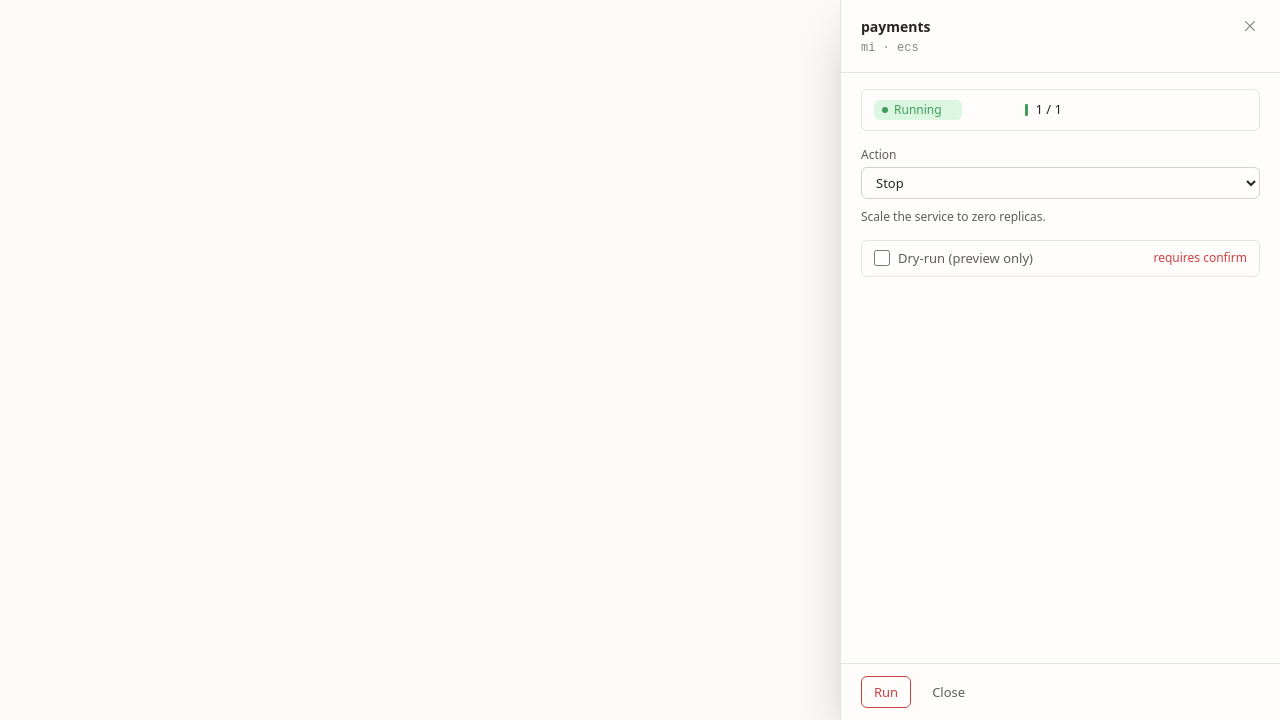
Test case: <ChaosDrawer mode=actions/> destructive flow › dry-run skips the confirm dialog and sends dryRun:true without confirm
The width and height of the screenshot is (1280, 720).
Step 1. Select "Stop" in the dropdown labelled "Action" → (1060, 183), box [861, 167, 1260, 199]
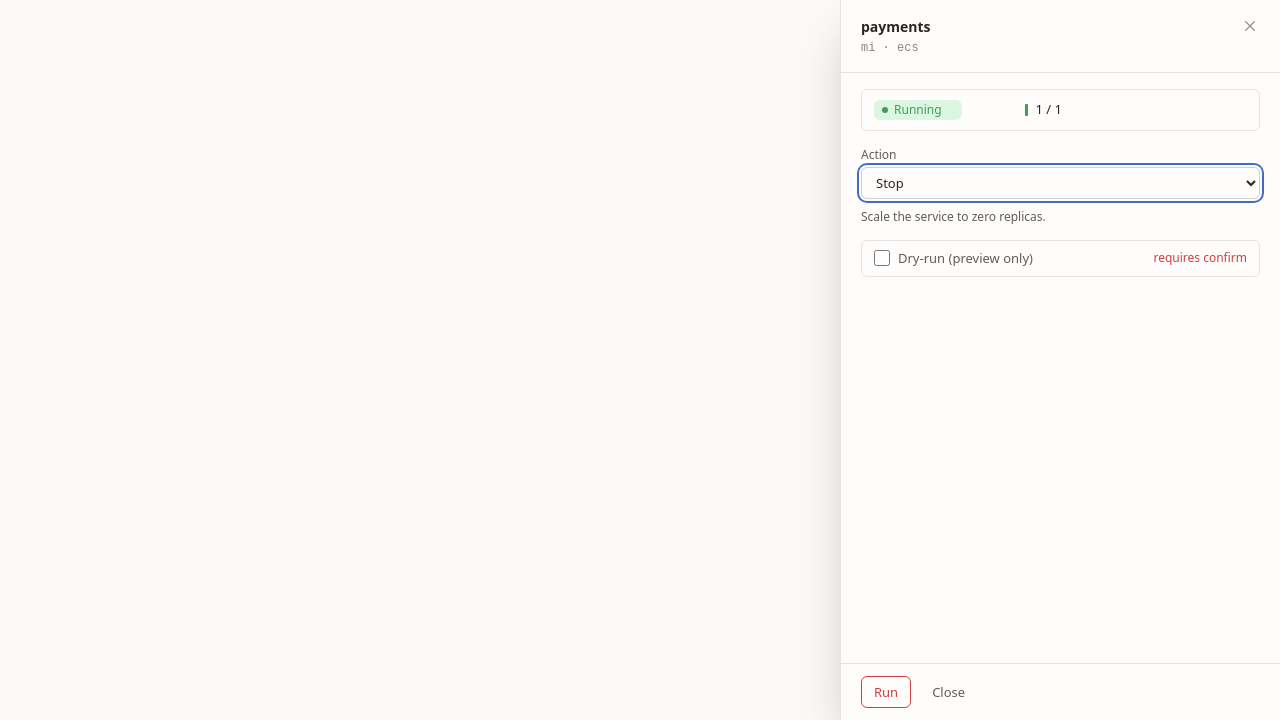
Step 2. Click the checkbox labelled "Dry-run (preview only)" → (882, 258), box [874, 250, 890, 266]
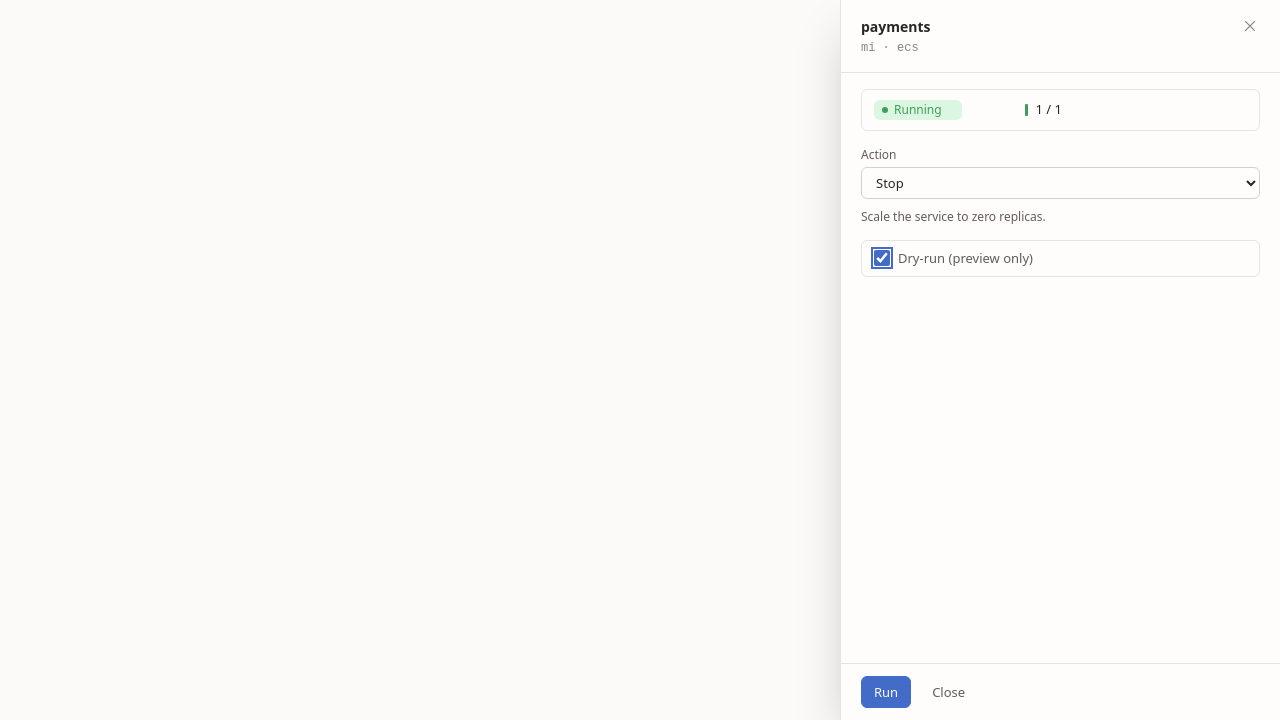
Step 3. Click the button "Run" → (886, 692), box [861, 676, 911, 708]
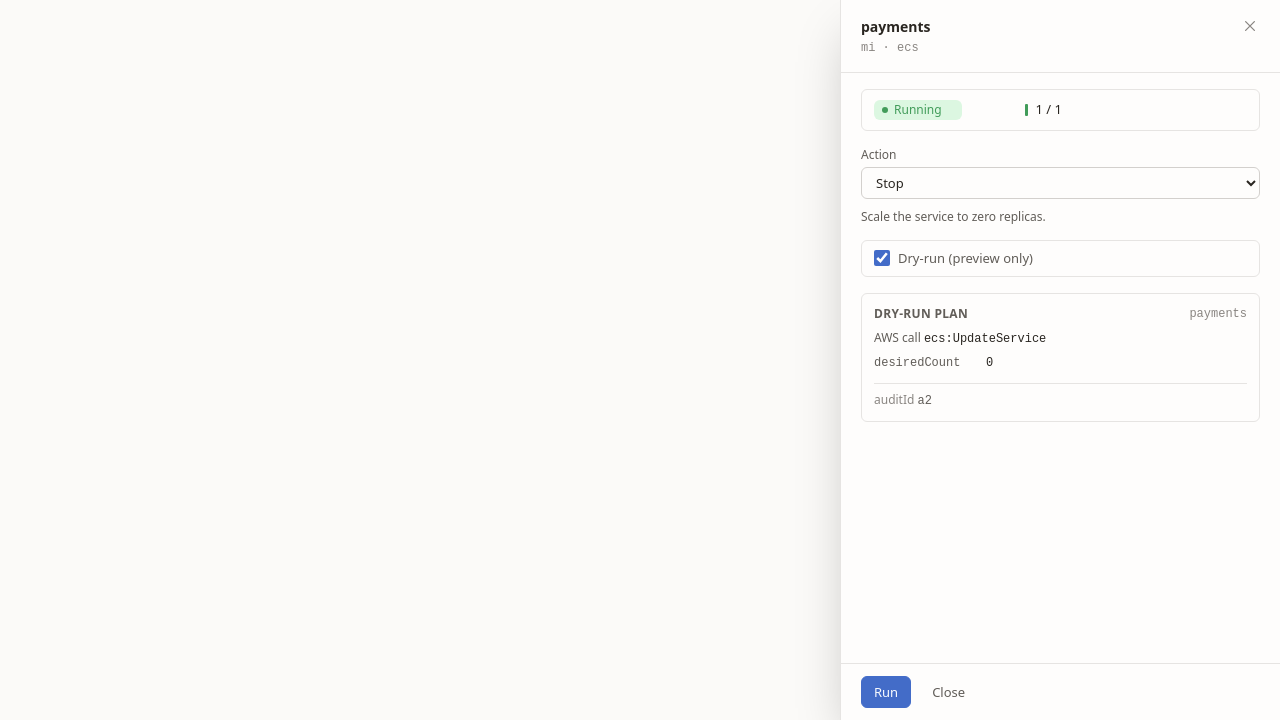
Check: the text "ecs:UpdateService" is shown, box [924, 332, 1046, 346]
Check: the text "a2" is shown, box [918, 394, 932, 408]
